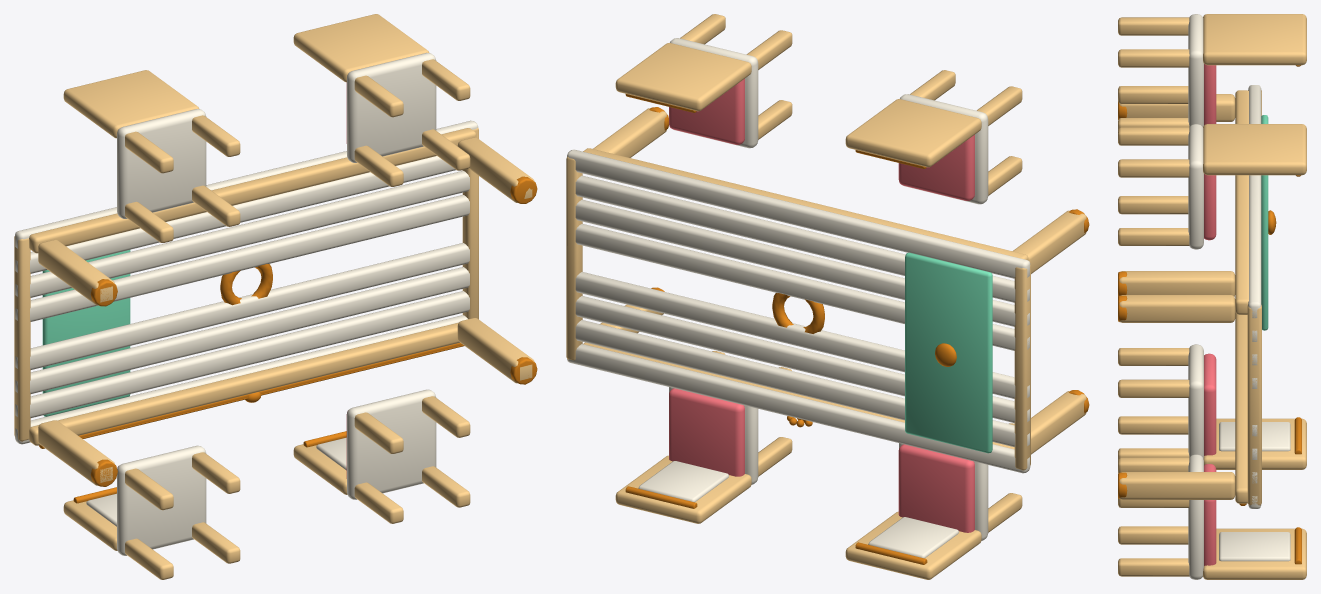
The model's file is PatioDiningSet_Premium.fbx.
3 renders of one model, left to right at view 1: azimuth 30°, elevation 25°; view 2: azimuth 150°, elevation 25°; view 3: azimuth 270°, elevation 25°, orthographic.
Parts seen in each view (by area): view 1: PatioDiningSet; view 2: PatioDiningSet; view 3: PatioDiningSet.
Boxes of the visible parts, x1,y1,x2,y2 form: PatioDiningSet: [14, 14, 537, 579]; PatioDiningSet: [566, 14, 1089, 579]; PatioDiningSet: [1118, 14, 1306, 579].
Bounding box in the file's own units: 1.6 × 1.42 × 0.58.
